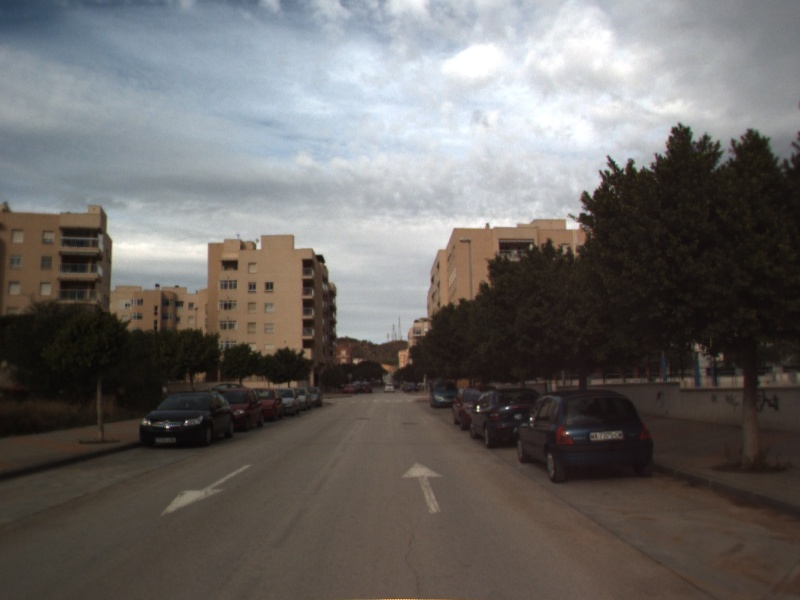STRAIGHT: (400, 459, 446, 515)
